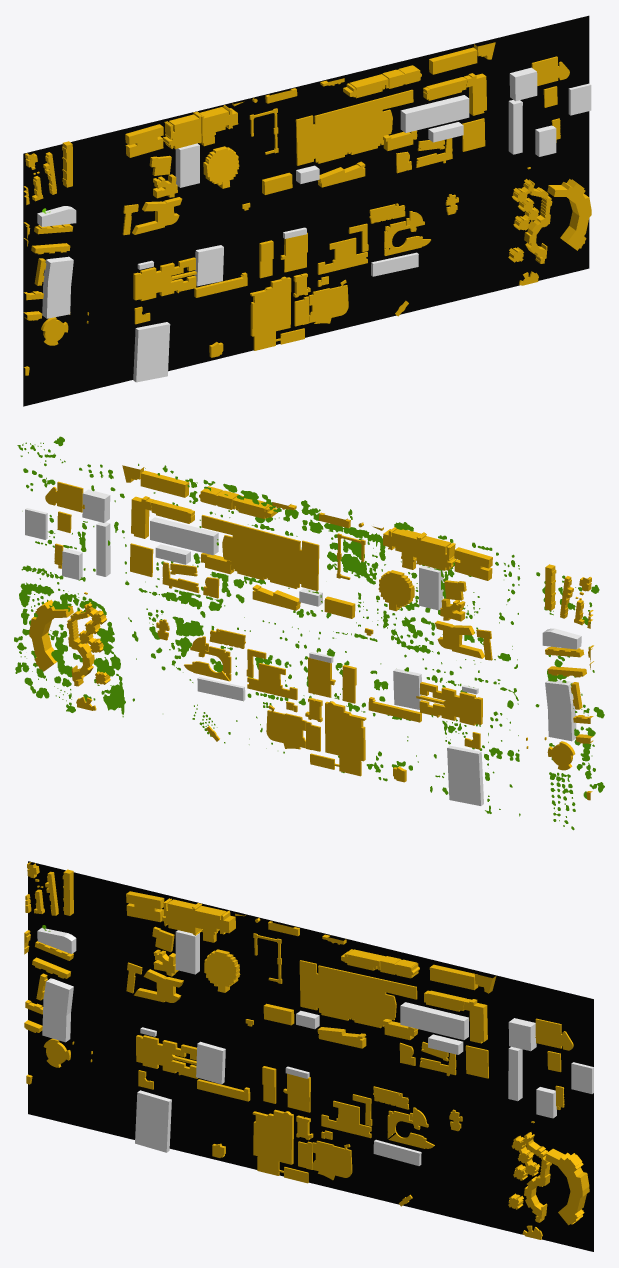
File: new_low_buildings_03.glb
3 views of the same model, one above another, from view 1: azimuth 30°, elevation 25°; view 2: azimuth 150°, elevation 25°; view 3: azimuth 330°, elevation 25° (orthographic).
Visible parts, largest first — view 1: Layer 04, existing_building - Copy, new buildings; view 2: existing_building - Copy, treesurface, new buildings; view 3: Layer 04, existing_building - Copy, new buildings.
Boxes of the visible parts, x1=… form: Layer 04: x1=23, y1=15, x2=589, y2=406; existing_building - Copy: x1=23, y1=42, x2=591, y2=375; new buildings: x1=37, y1=67, x2=591, y2=382; existing_building - Copy: x1=29, y1=465, x2=593, y2=800; treesurface: x1=14, y1=436, x2=604, y2=830; new buildings: x1=25, y1=489, x2=581, y2=805; Layer 04: x1=28, y1=861, x2=593, y2=1251; existing_building - Copy: x1=24, y1=862, x2=589, y2=1239; new buildings: x1=37, y1=928, x2=593, y2=1165.
Bounding box in the file's own units: 1035 × 458 × 20.85.
